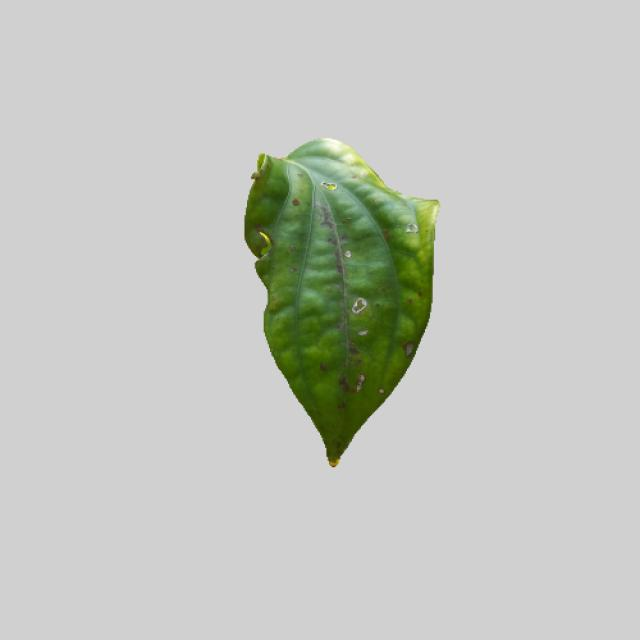yellow-mottle-virus: (226, 130, 443, 466)
